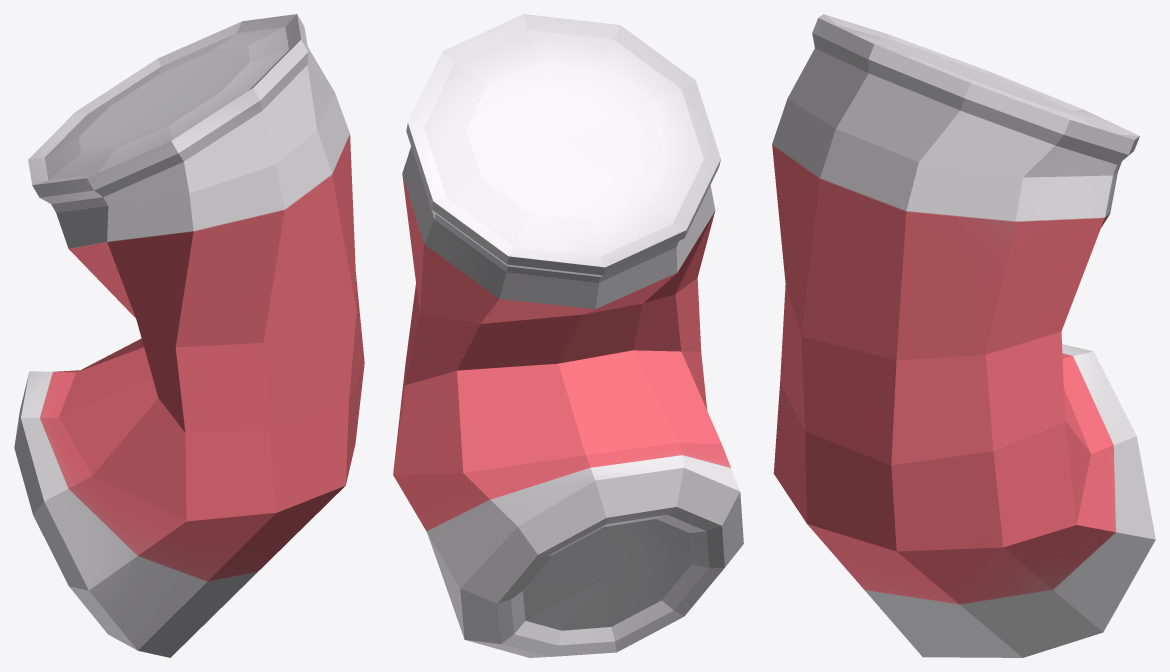
File: can.fbx
3 views of the same model, side by side, from view 1: azimuth 30°, elevation 25°; view 2: azimuth 150°, elevation 25°; view 3: azimuth 270°, elevation 25° (orthographic). The views are drawn at different scales.
Visible parts, largest first — view 1: Sphere; view 2: Sphere; view 3: Sphere.
Part boxes in pixels (left/top/right/bottom): Sphere: left=14, top=14, right=364, bottom=657; Sphere: left=393, top=14, right=743, bottom=657; Sphere: left=772, top=14, right=1155, bottom=657.
Size of the model in its own units: 216 by 405 by 210.
1 material, 1 textured.
